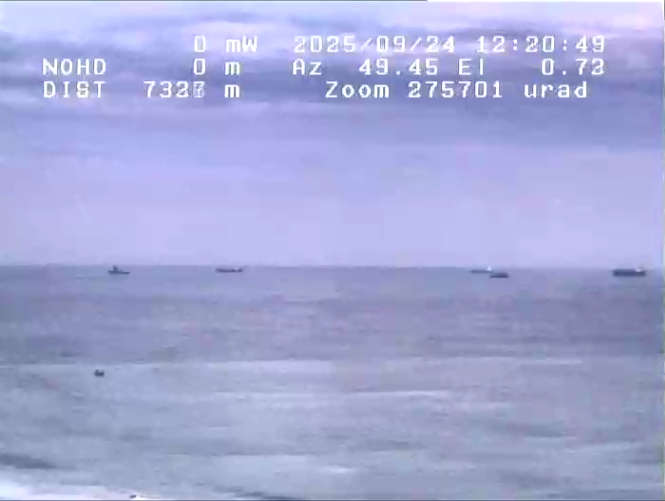TANKER: (593, 263, 658, 279), (461, 262, 499, 275)
